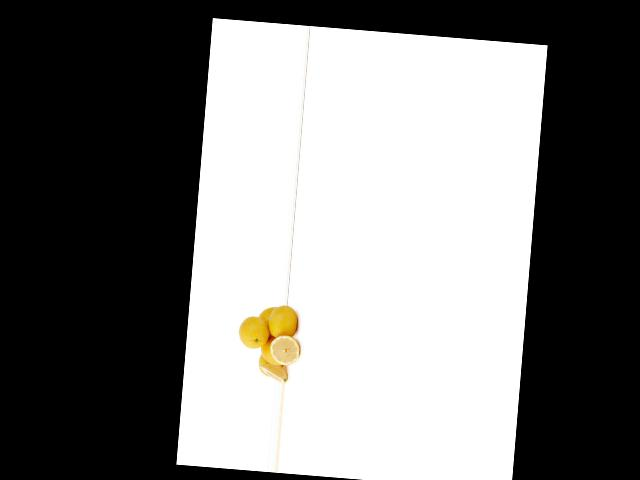lemon: (262, 304, 300, 342)
